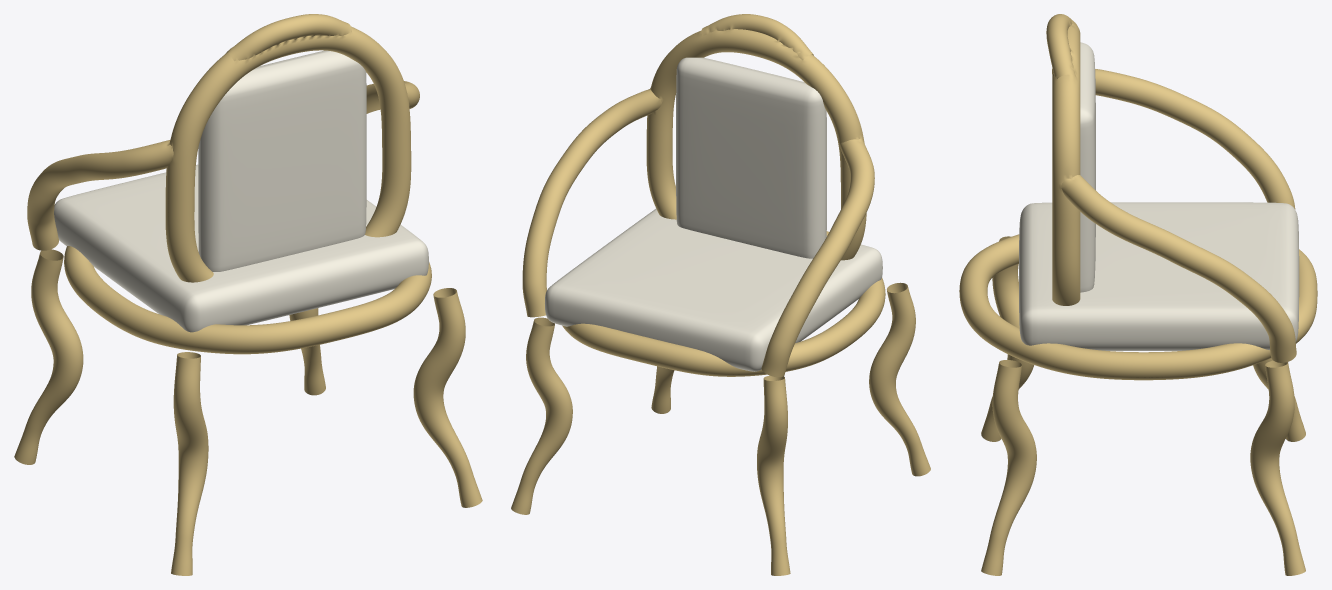
File: chair.glb
The picture shows the model from 3 angles, left to right: view 1: azimuth 30°, elevation 25°; view 2: azimuth 150°, elevation 25°; view 3: azimuth 270°, elevation 25°; orthographic projection. The views are drawn at different scales.
Parts seen in each view (by area): view 1: ChairFrame, BackCushion, SeatCushion; view 2: ChairFrame, SeatCushion, BackCushion; view 3: ChairFrame, SeatCushion, BackCushion.
Boxes of the visible parts, left/top/right/bottom form: ChairFrame: left=14, top=14, right=482, bottom=575; BackCushion: left=198, top=50, right=366, bottom=271; SeatCushion: left=54, top=164, right=428, bottom=332; ChairFrame: left=511, top=14, right=930, bottom=575; SeatCushion: left=545, top=209, right=882, bottom=371; BackCushion: left=676, top=57, right=826, bottom=258; ChairFrame: left=959, top=14, right=1317, bottom=575; SeatCushion: left=1019, top=202, right=1299, bottom=350; BackCushion: left=1080, top=42, right=1095, bottom=292.
Size of the model in its own units: 0.7133 by 1.03 by 0.6944.
